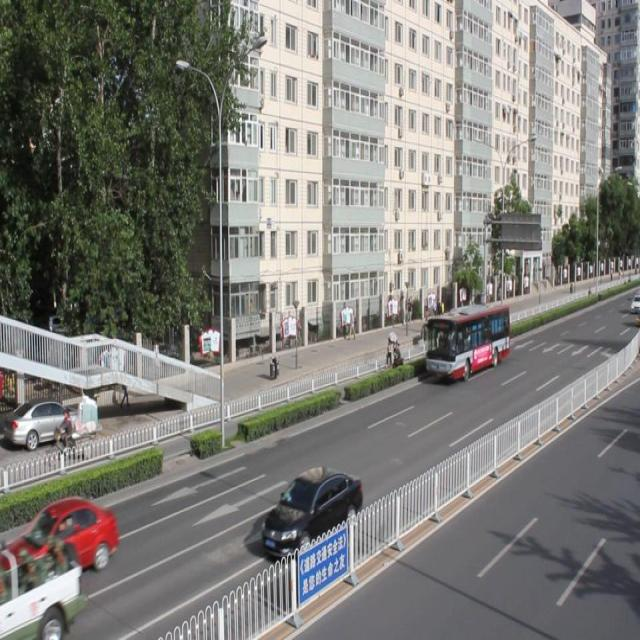car: (262, 465, 362, 558), (10, 494, 118, 576), (1, 552, 82, 640)
van: (424, 302, 509, 378)
